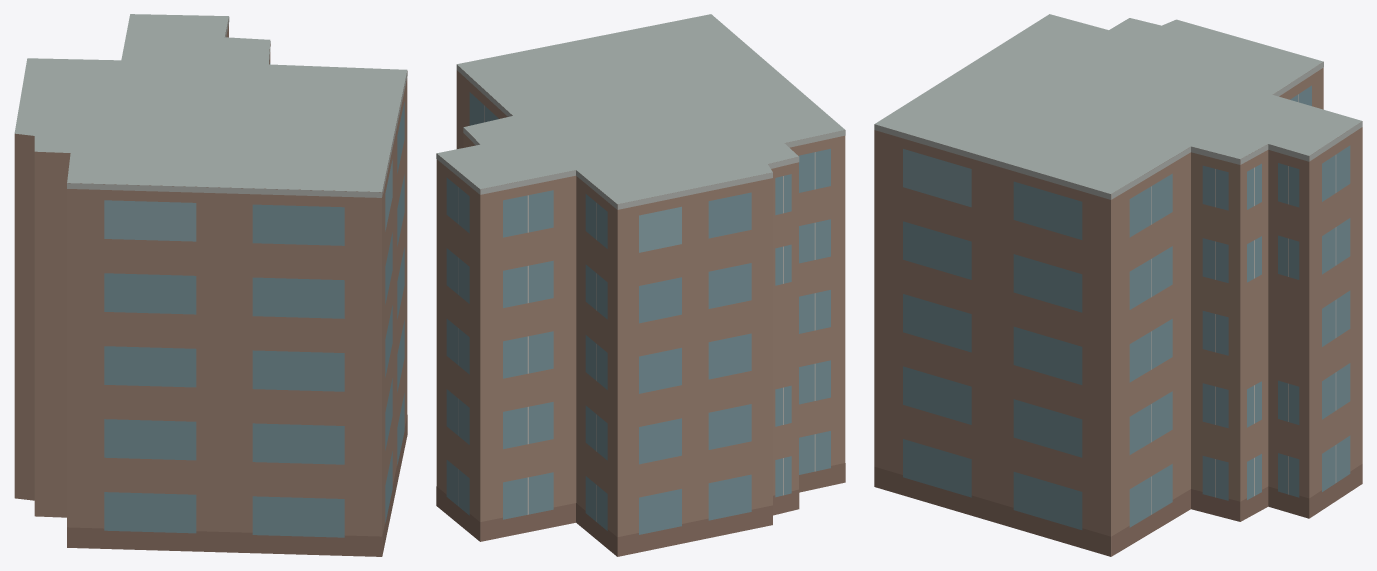
Rendered from survey-upis-32954331.glb.
The picture shows the model from 3 angles, left to right: view 1: azimuth 30°, elevation 25°; view 2: azimuth 150°, elevation 25°; view 3: azimuth 270°, elevation 25°; orthographic projection. The views are drawn at different scales.
Visible parts, largest first — view 1: survey-upis-32954331.tmp; view 2: survey-upis-32954331.tmp; view 3: survey-upis-32954331.tmp.
Part boxes in pixels (box(x1,y1,x2,y2)): survey-upis-32954331.tmp: box(14, 14, 407, 556); survey-upis-32954331.tmp: box(436, 14, 845, 556); survey-upis-32954331.tmp: box(874, 14, 1362, 556).
Size of the model in its own units: 16.26 by 15.25 by 18.62.
